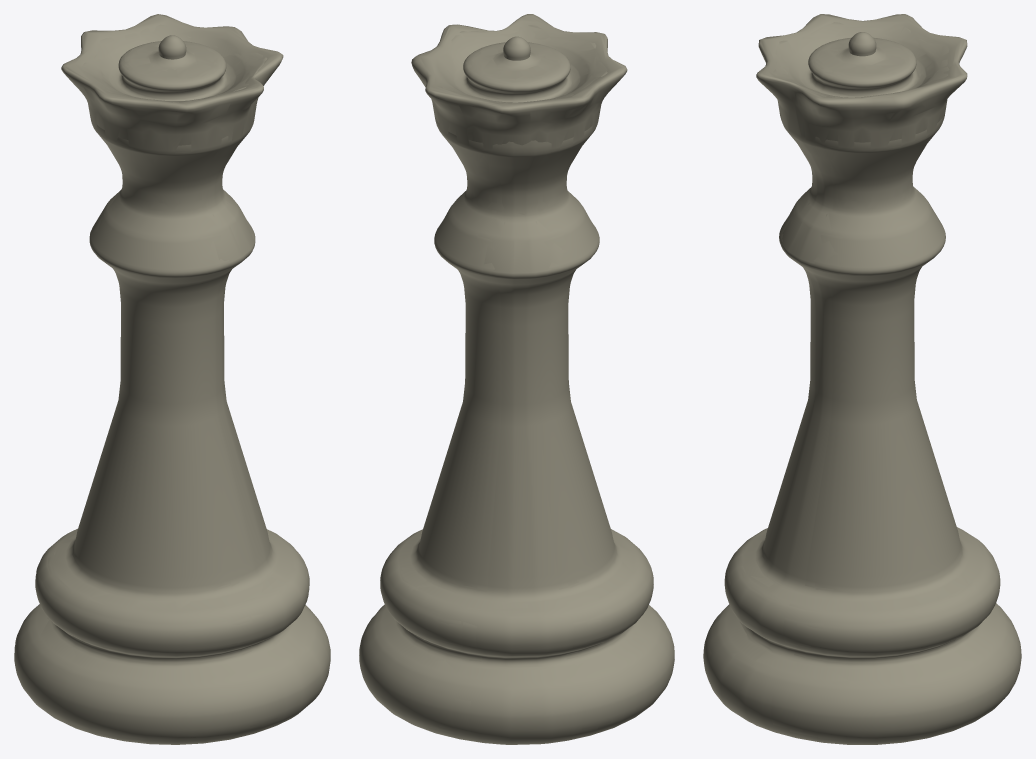
Rendered from klasikset_q_w.glb.
The picture shows the model from 3 angles, left to right: view 1: azimuth 30°, elevation 25°; view 2: azimuth 150°, elevation 25°; view 3: azimuth 270°, elevation 25°; orthographic projection.
Visible parts, largest first — view 1: Plane.001_5; view 2: Plane.001_5; view 3: Plane.001_5.
Boxes of the visible parts, x1=… form: Plane.001_5: x1=14, y1=14, x2=330, y2=744; Plane.001_5: x1=359, y1=14, x2=674, y2=744; Plane.001_5: x1=703, y1=14, x2=1021, y2=744.
Bounding box in the file's own units: 1.57 × 3.6 × 1.57.
